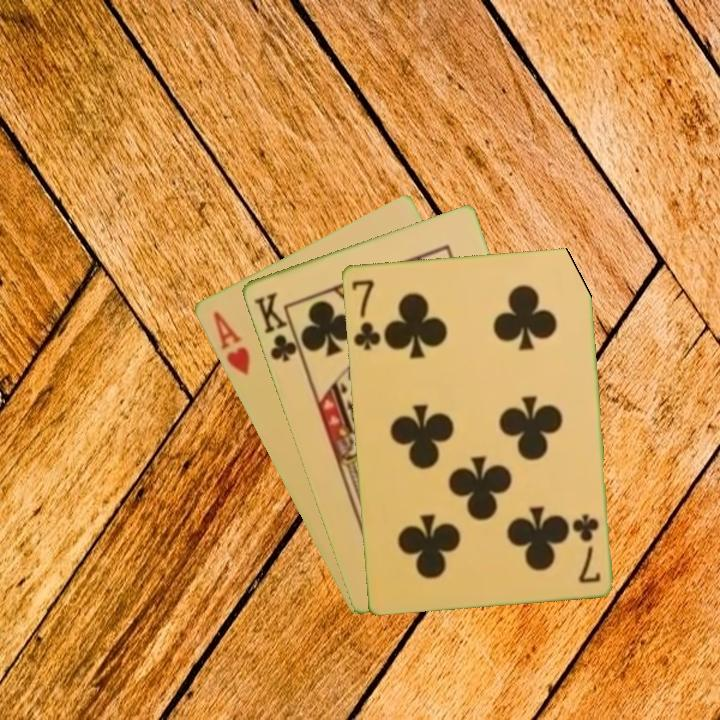7c: (348, 276, 383, 353), (570, 510, 603, 585)
Ah: (209, 307, 253, 378)
Kc: (250, 287, 304, 365)
